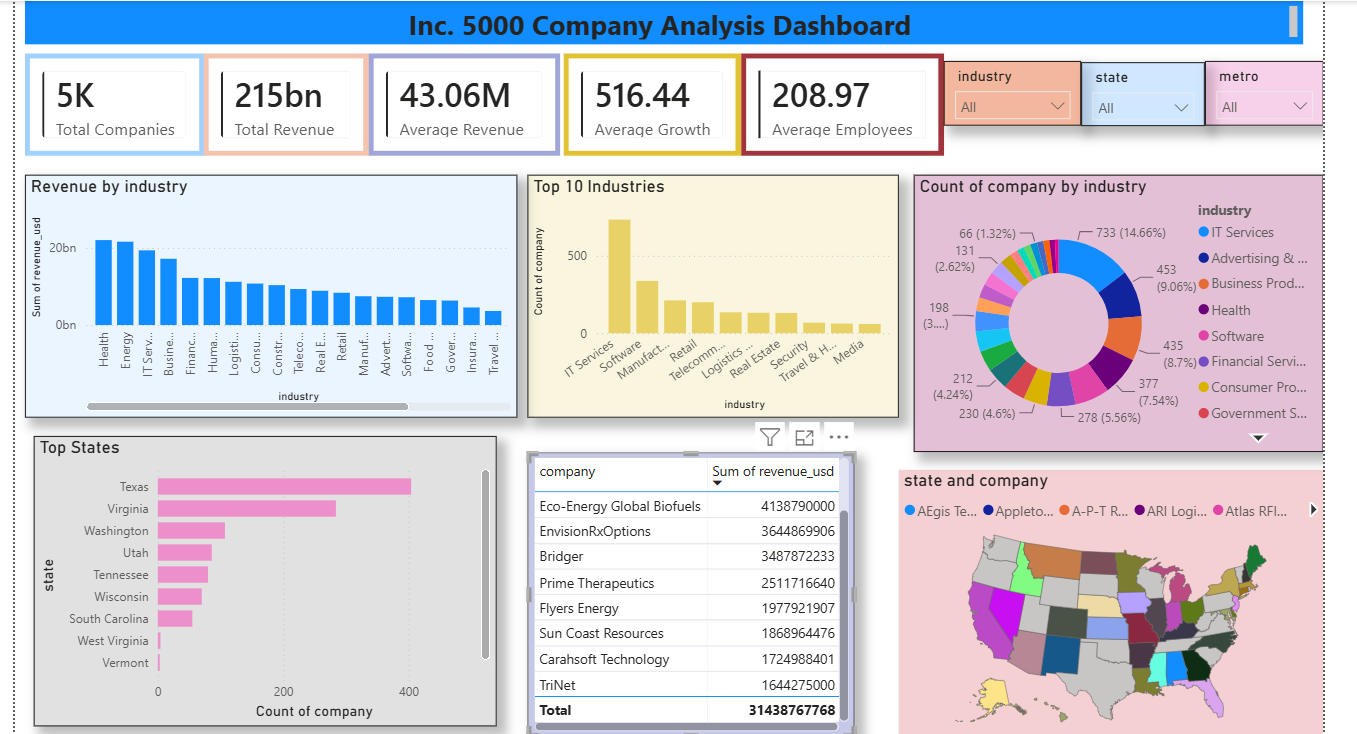

Layout of this report page (visuals, bound fields, positions):
{"tool":"powerbi","page":{"name":"Page 1","canvas":[1280,720],"ordinal":0},"visuals":[{"type":"textbox","box":[9.6,0,1250.1,42.5],"z":0},{"type":"cardVisual","fields":{"Data":["company.Total Companies"]},"box":[9.6,50.8,175.6,100.2],"z":1},{"type":"cardVisual","fields":{"Data":["company.Total Revenue"]},"box":[185.2,50.8,161.9,100.2],"z":2},{"type":"cardVisual","fields":{"Data":["company.Average Revenue"]},"box":[346.1,51.4,187.1,100.3],"z":3},{"type":"cardVisual","fields":{"Data":["company.Average Growth"]},"box":[536.8,51.4,173.6,100.3],"z":4},{"type":"cardVisual","fields":{"Data":["company.Average Employees"]},"box":[710.5,51.4,198.1,100.3],"z":5},{"type":"clusteredColumnChart","title":"Revenue by industry","fields":{"Category":["company.industry"],"Y":["Sum(company.revenue_usd)"]},"box":[9.8,170,481.8,237.2],"z":6},{"type":"clusteredColumnChart","title":"Top 10 Industries","fields":{"Category":["company.industry"],"Y":["Count(company.company)"]},"box":[501.4,170,363.2,237.2],"z":7},{"type":"barChart","title":"Top States ","fields":{"Category":["company.state"],"Y":["CountNonNull(company.company)"]},"box":[18.3,425.5,452.4,283.7],"z":8},{"type":"tableEx","fields":{"Values":["company.company","Sum(company.revenue_usd)"]},"box":[501.4,441.4,320.4,278.8],"z":9},{"type":"donutChart","fields":{"Y":["CountNonNull(company.company)"],"Category":["company.industry"]},"box":[879.2,170,401.1,271.5],"z":10},{"type":"shapeMap","fields":{"Category":["company.state"],"Series":["company.company"]},"box":[864.5,458.6,415.8,261.7],"z":11},{"type":"slicer","fields":{"Values":["company.industry"]},"box":[908.6,58.7,134.5,63.6],"z":12},{"type":"slicer","fields":{"Values":["company.state"]},"box":[1043.1,59.9,121.1,62.4],"z":13},{"type":"slicer","fields":{"Values":["company.metro"]},"box":[1164.1,58.7,116.2,63.6],"z":14}]}

Visuals, with their boxes in screenshot pixels (x1, y1, x2, y2):
textbox: (left=34, top=0, right=1293, bottom=43)
cardVisual - company.Total Companies: (left=34, top=51, right=211, bottom=152)
cardVisual - company.Total Revenue: (left=211, top=51, right=374, bottom=152)
cardVisual - company.Average Revenue: (left=373, top=52, right=562, bottom=153)
cardVisual - company.Average Growth: (left=565, top=52, right=740, bottom=153)
cardVisual - company.Average Employees: (left=740, top=52, right=940, bottom=153)
"Revenue by industry" clusteredColumnChart: (left=35, top=171, right=520, bottom=410)
"Top 10 Industries" clusteredColumnChart: (left=530, top=171, right=895, bottom=410)
"Top States " barChart: (left=43, top=428, right=499, bottom=714)
tableEx - company.company x Sum(company.revenue_usd): (left=530, top=444, right=852, bottom=725)
donutChart - CountNonNull(company.company) x company.industry: (left=910, top=171, right=1314, bottom=444)
shapeMap - company.state x company.company: (left=895, top=462, right=1314, bottom=725)
slicer - company.industry: (left=940, top=59, right=1075, bottom=123)
slicer - company.state: (left=1075, top=60, right=1197, bottom=123)
slicer - company.metro: (left=1197, top=59, right=1314, bottom=123)
